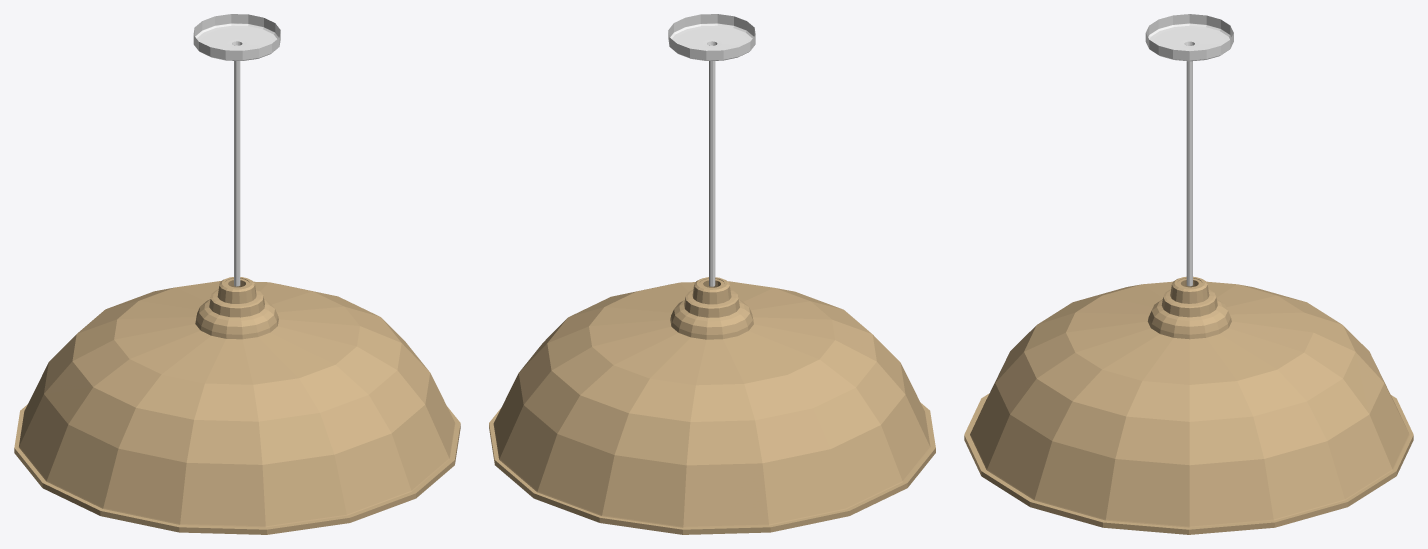
File: sh-bsby-hanging-light.glb
3 views of the same model, side by side, from view 1: azimuth 30°, elevation 25°; view 2: azimuth 150°, elevation 25°; view 3: azimuth 270°, elevation 25° (orthographic).
Visible parts, largest first — view 1: Lamp-shade_Cylinder.014, Light-Ceiling-Fitting_Circle; view 2: Lamp-shade_Cylinder.014, Light-Ceiling-Fitting_Circle; view 3: Lamp-shade_Cylinder.014, Light-Ceiling-Fitting_Circle.
Boxes of the visible parts, x1,y1,x2,y2 form: Lamp-shade_Cylinder.014: [14, 277, 460, 534]; Light-Ceiling-Fitting_Circle: [193, 14, 280, 286]; Lamp-shade_Cylinder.014: [489, 277, 935, 534]; Light-Ceiling-Fitting_Circle: [668, 14, 755, 286]; Lamp-shade_Cylinder.014: [964, 276, 1413, 534]; Light-Ceiling-Fitting_Circle: [1145, 14, 1233, 286].
Size of the model in its own units: 1 by 1 by 1.
